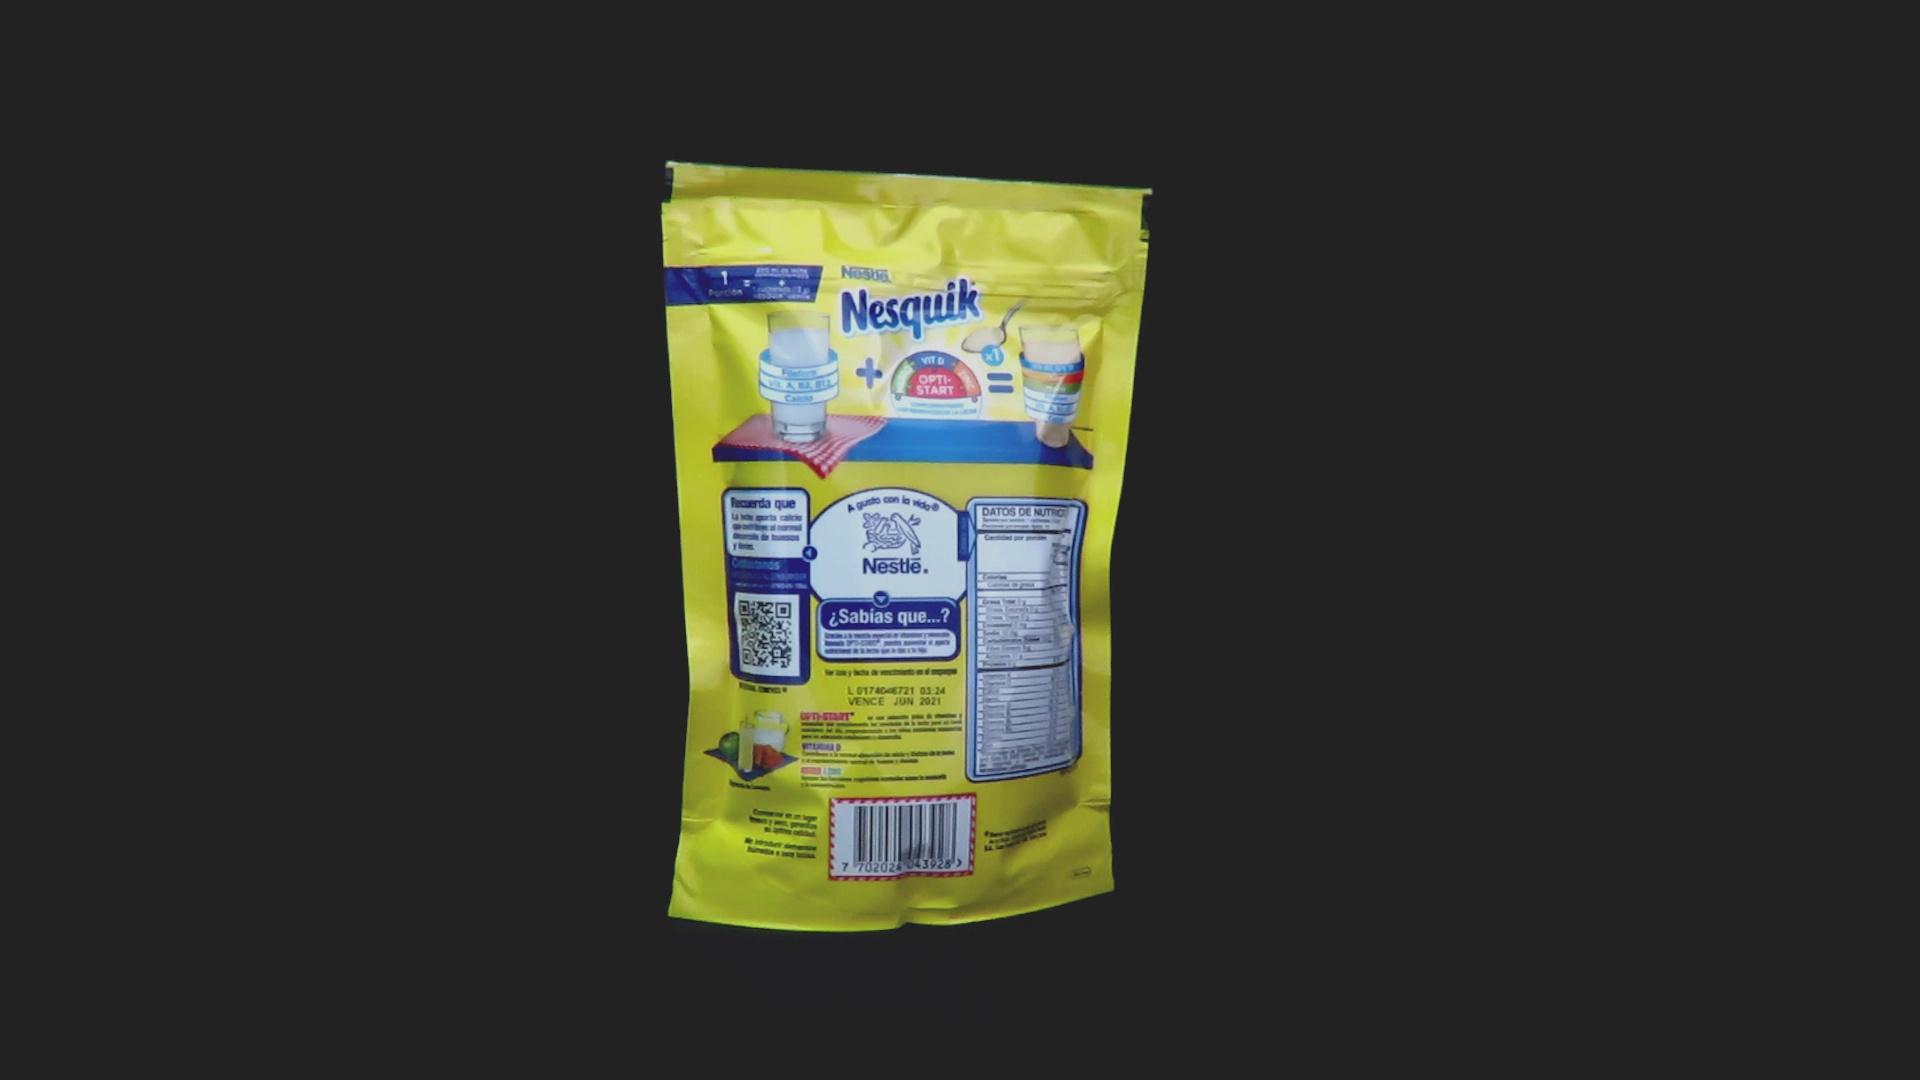COL0170306DYP20000: (655, 156, 1159, 938)
